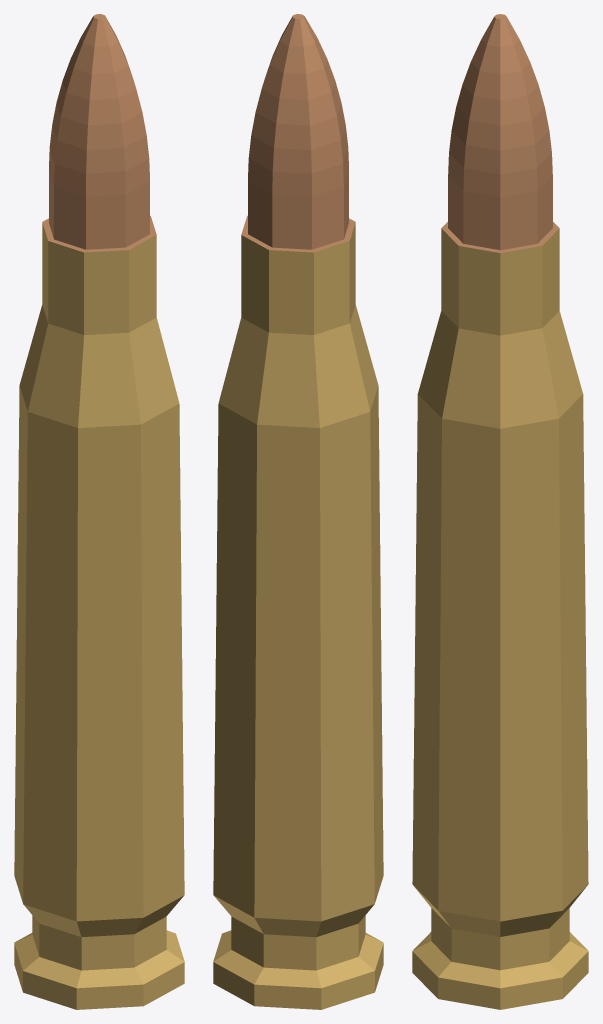
File: round_556x45.glb
3 views of the same model, side by side, from view 1: azimuth 30°, elevation 25°; view 2: azimuth 150°, elevation 25°; view 3: azimuth 270°, elevation 25° (orthographic).
Visible parts, largest first — view 1: round_556x45; view 2: round_556x45; view 3: round_556x45.
Boxes of the visible parts, x1,y1,x2,y2 form: round_556x45: (14,14,184,1009); round_556x45: (213,14,383,1009); round_556x45: (412,14,588,1009).
Bounding box in the file's own units: 0.0096 × 0.0574 × 0.0096.
